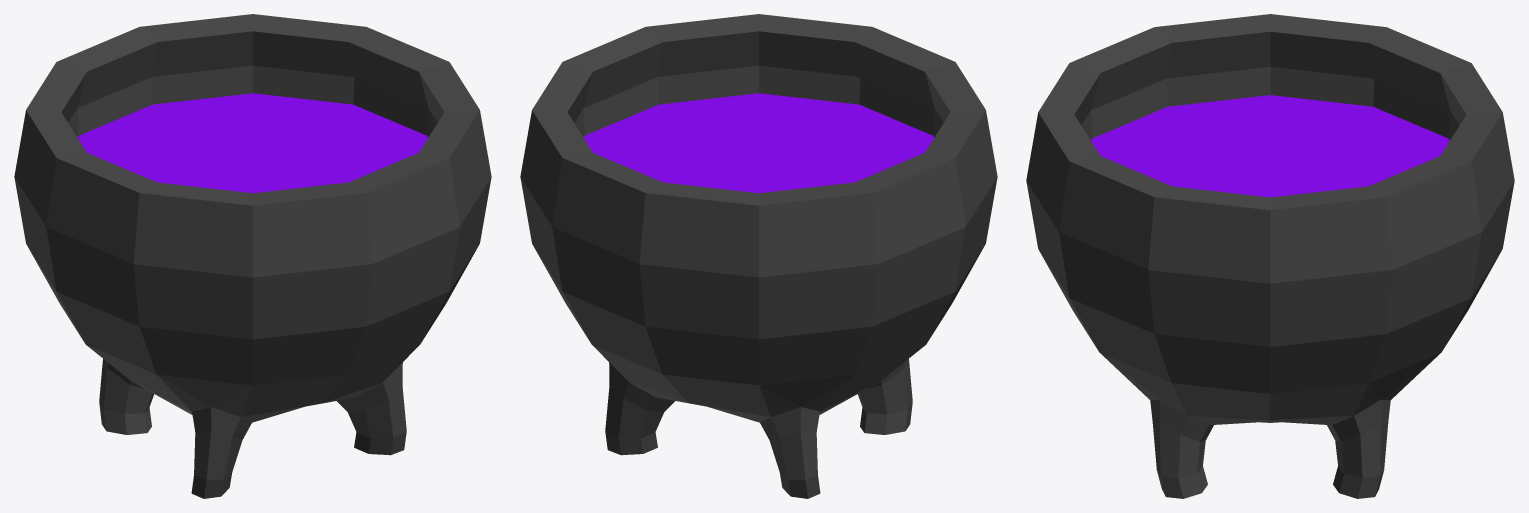
File: Caldeirao.fbx
3 renders of one model, left to right at view 1: azimuth 30°, elevation 25°; view 2: azimuth 150°, elevation 25°; view 3: azimuth 270°, elevation 25°, orthographic. The views are drawn at different scales.
Visible parts, largest first — view 1: Caldeirao; view 2: Caldeirao; view 3: Caldeirao.
Boxes of the visible parts, x1,y1,x2,y2 form: Caldeirao: (14, 14, 491, 498); Caldeirao: (520, 14, 997, 498); Caldeirao: (1026, 14, 1514, 498).
Bounding box in the file's own units: 146 × 112 × 146.
